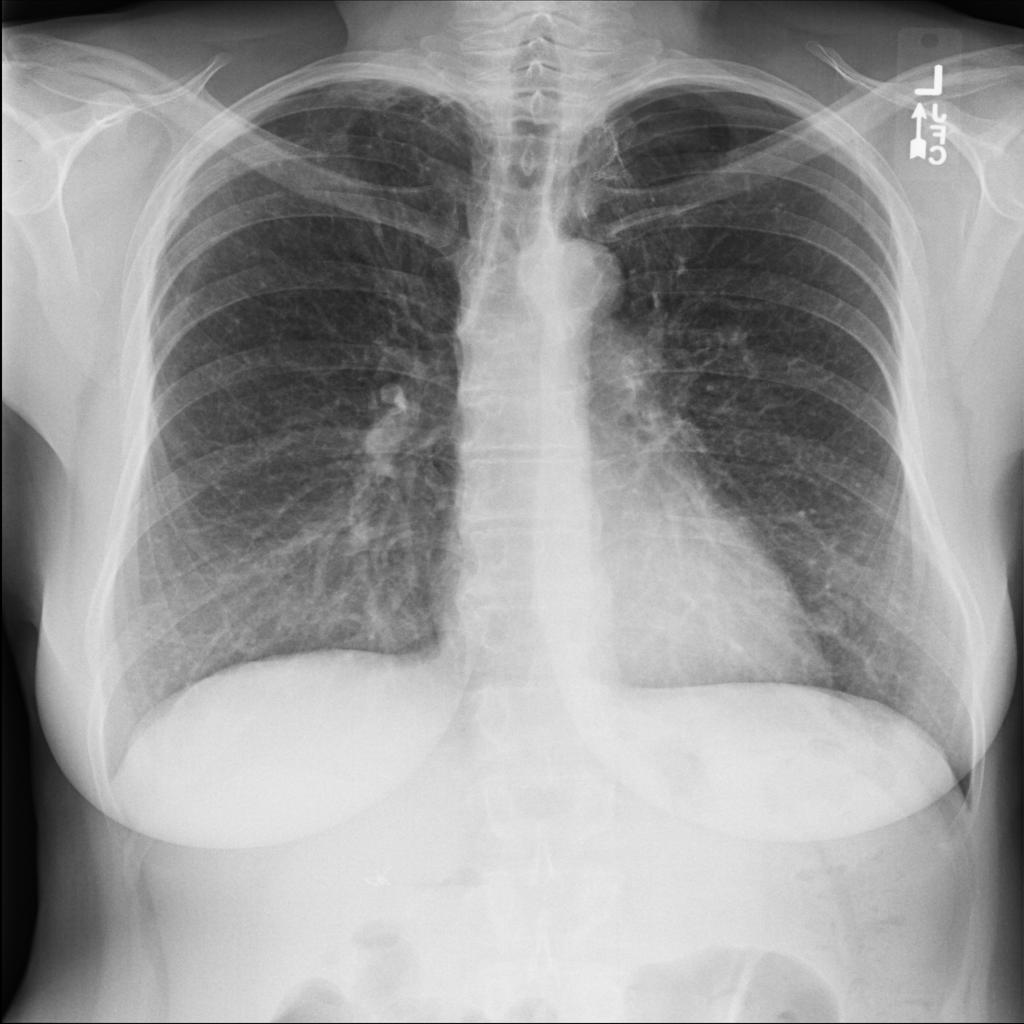nodule: (793, 585, 865, 654)
